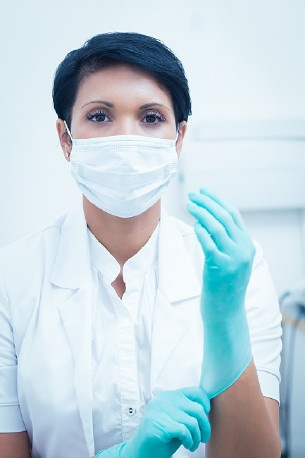Mask: (73, 94, 180, 201)
